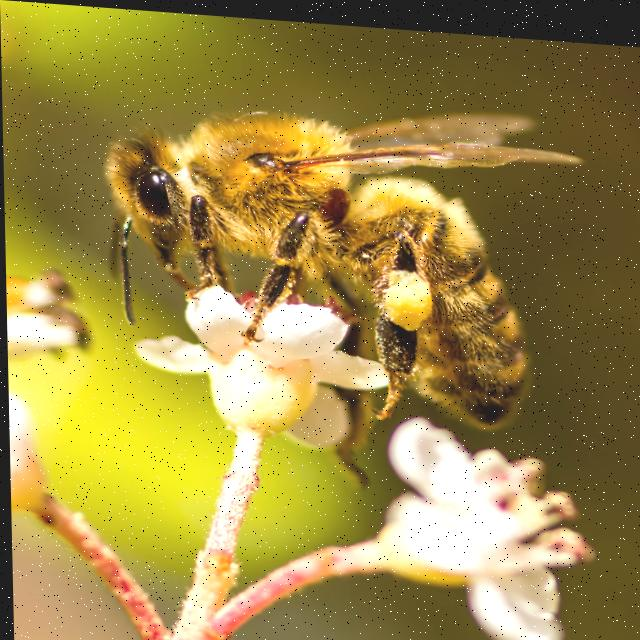Apis-mellifera-scutellata: (94, 60, 567, 462)
